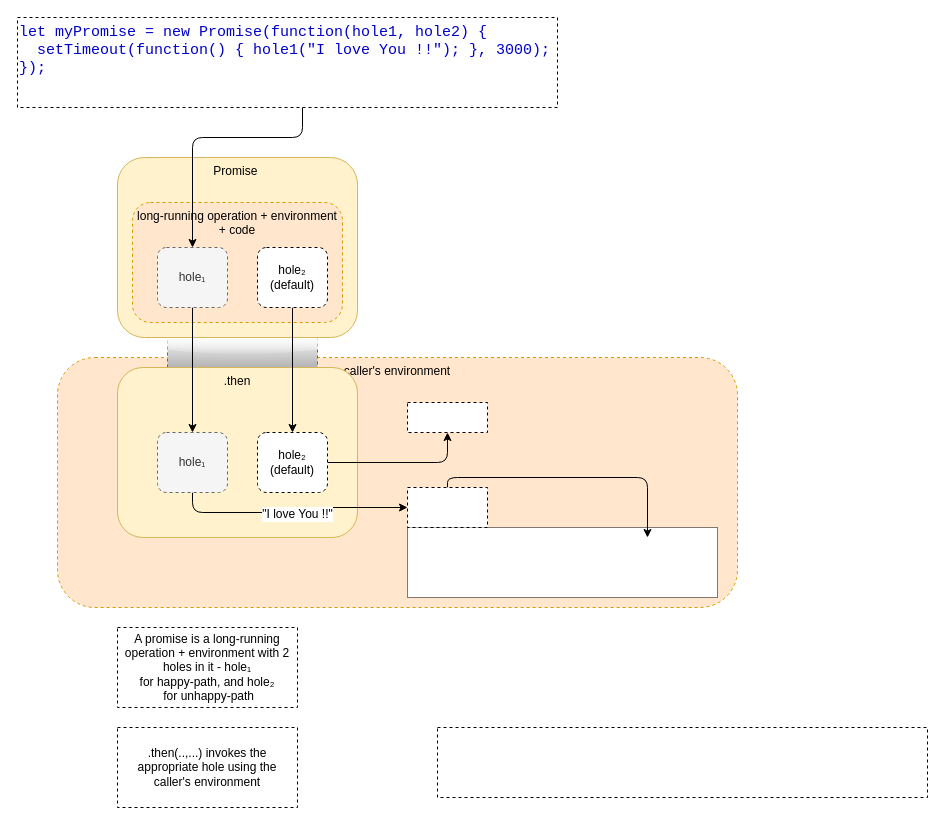
This 945x825 diagram has some shape labels left out. Here are the shapes that lost their labels. From the top down, the centre of each, then its label:
(x=242, y=352): time
(x=447, y=417): throw
(x=447, y=507): return value
(x=562, y=562): myPromise.then(function(value) { console.log (value); });
(x=682, y=762): from: https://www.w3schools.com/js/js_promise.asp
